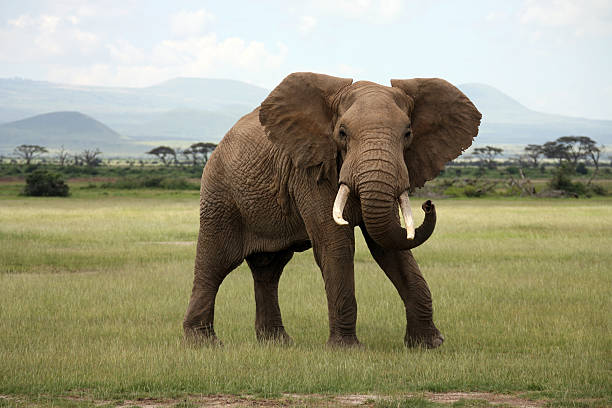africanelephant: (314, 85, 429, 248)
